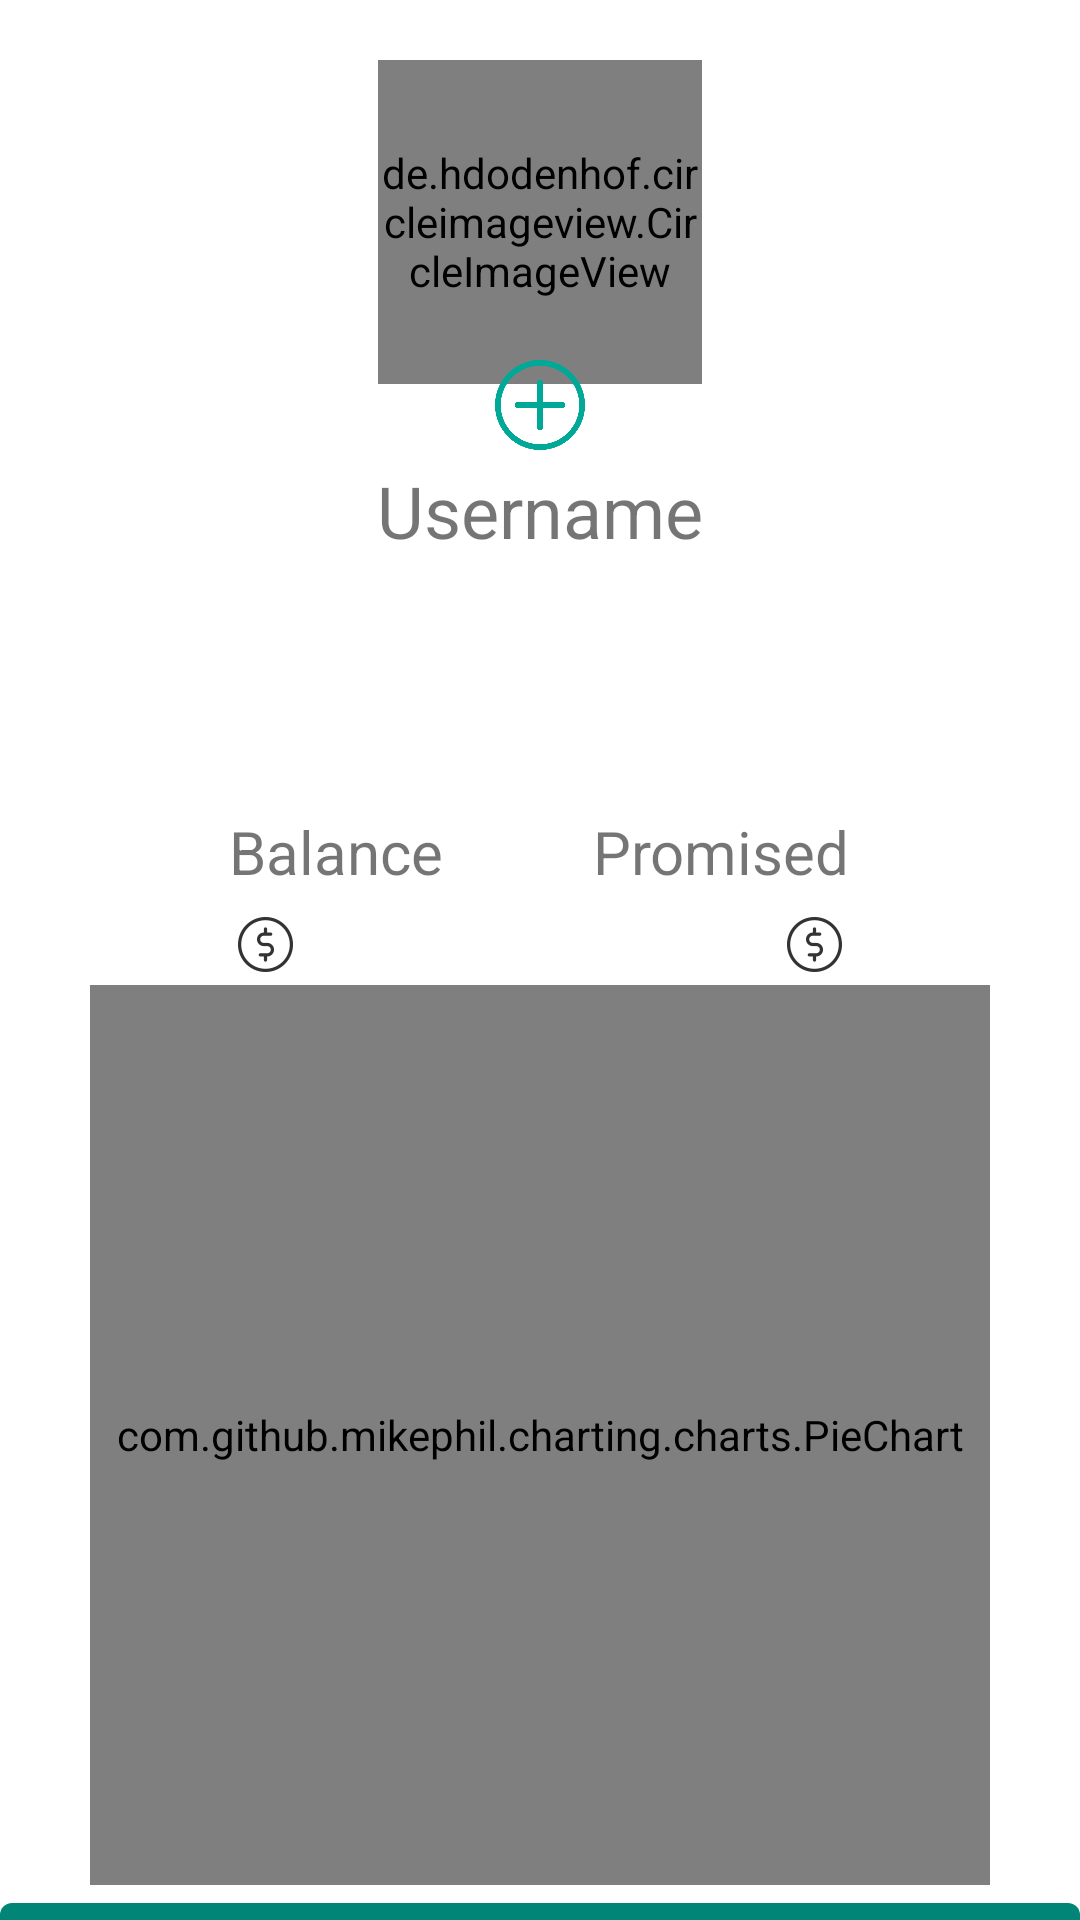

Where icons sit on this 1080*1920 app screen, as (x1, y1, x2, y2):
Photo upload button: (495, 360, 585, 450)
